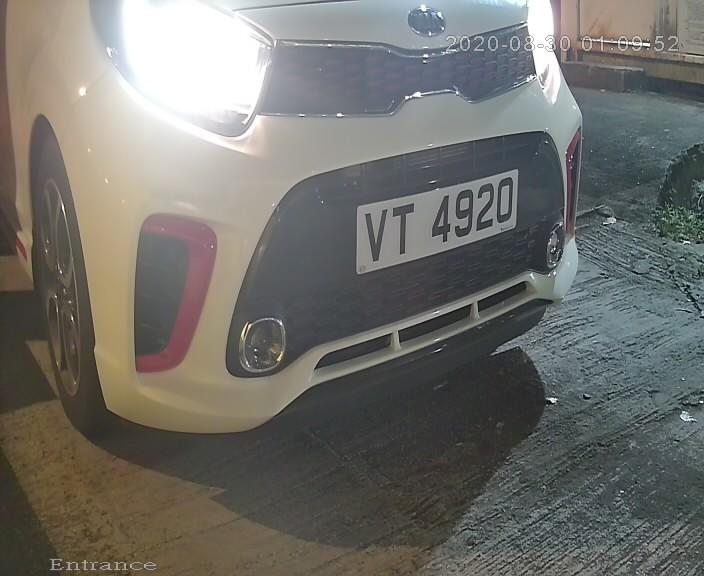License Plate: (349, 165, 516, 278)
